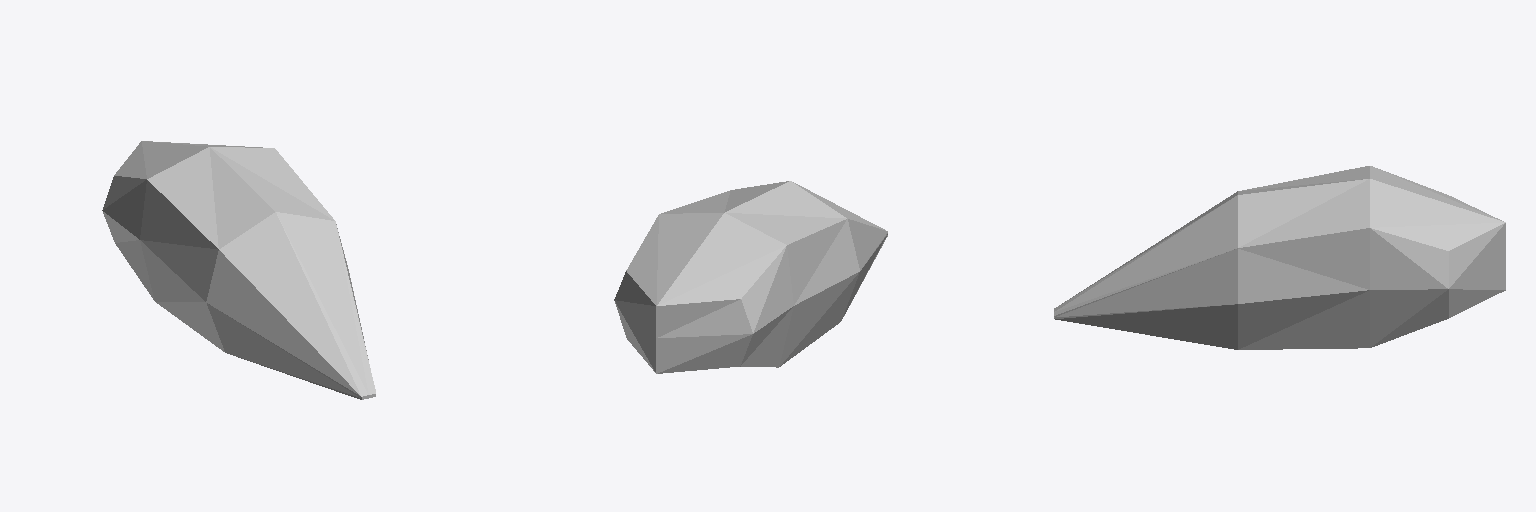
The model's file is Chicken Breast.obj.
3 renders of one model, left to right at view 1: azimuth 30°, elevation 25°; view 2: azimuth 150°, elevation 25°; view 3: azimuth 270°, elevation 25°, orthographic.
Parts seen in each view (by area): view 1: pCube1; view 2: pCube1; view 3: pCube1.
Boxes of the visible parts, box(x1,y1,x2,y2) form: pCube1: box(102, 141, 375, 399); pCube1: box(614, 181, 887, 373); pCube1: box(1054, 166, 1505, 349).
Size of the model in its own units: 3.23 by 3.33 by 8.91.